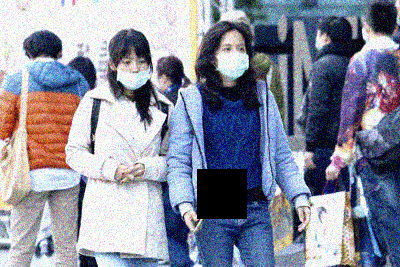mask_weared_incorrect: (114, 54, 151, 91)
with_mask: (216, 40, 251, 82)
